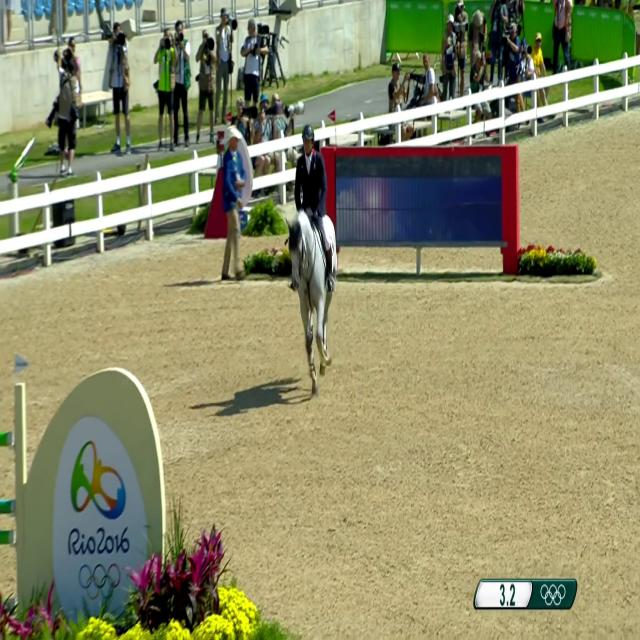Horse Rider: (290, 97, 328, 230)
Horse Running: (272, 176, 352, 414)
